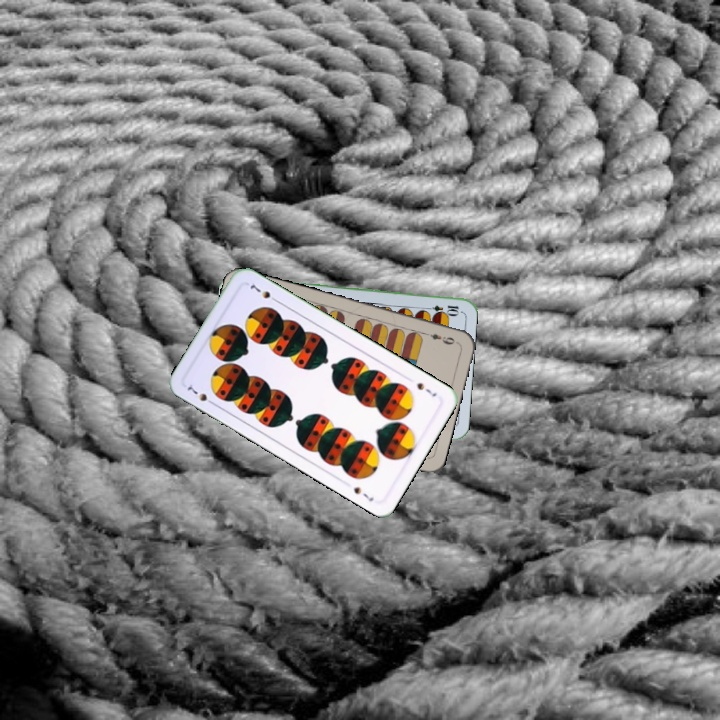E10: (421, 301, 461, 316)
E9: (420, 328, 457, 347)
S7: (183, 380, 218, 408), (413, 378, 439, 399)
